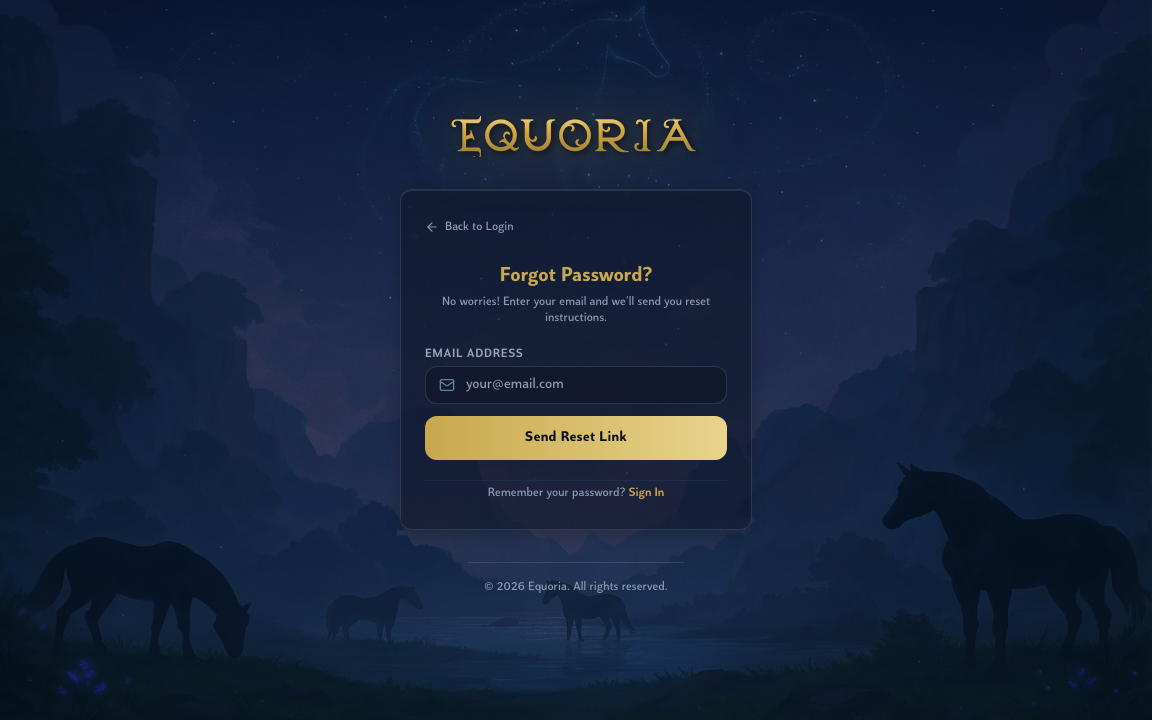
ForgotPasswordPage › Success State › displays email in success message
Type "myemail@example.com" into the field with placeholder "your@email.com" at (576, 385), box [425,366,727,404]
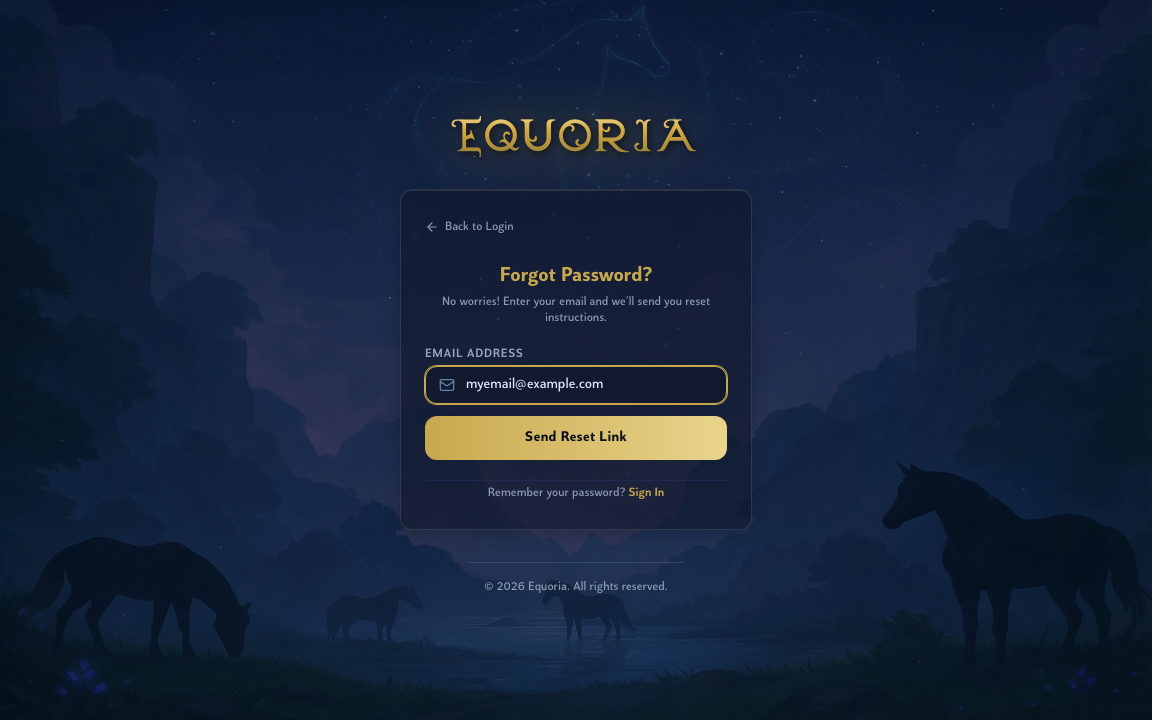
Click the button "Send Reset Link" at (576, 438), box [425,416,727,460]
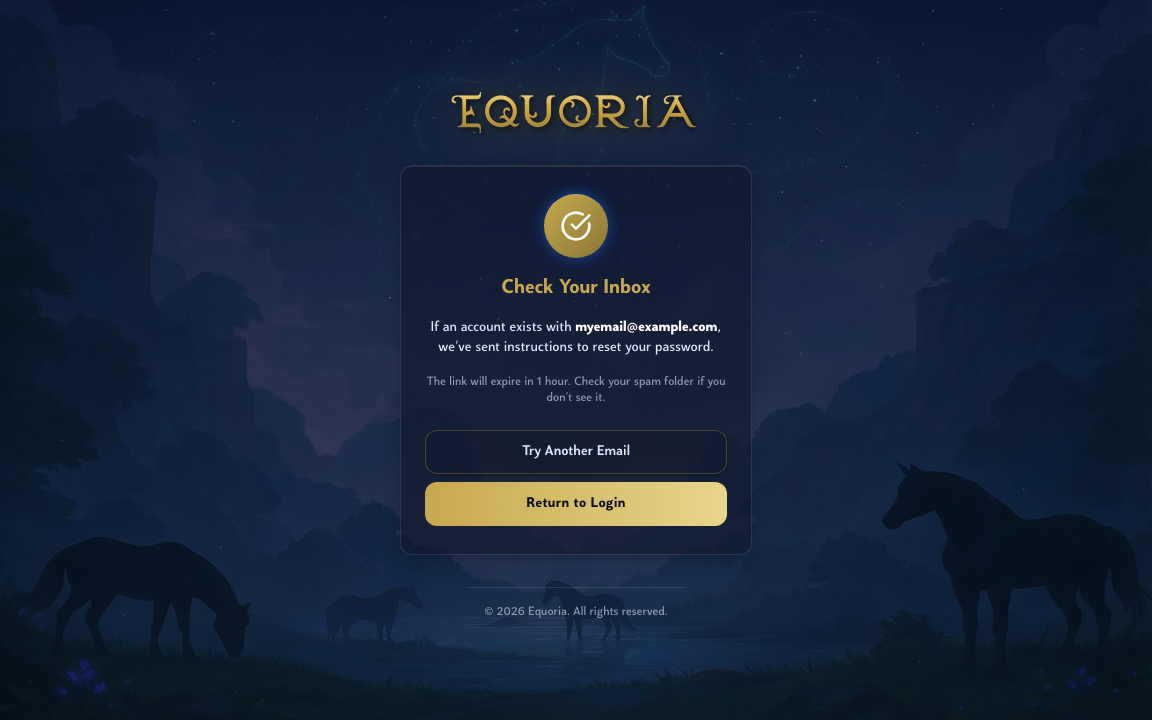
Now the text "myemail@example.com" is shown, box [575,320,718,334]
